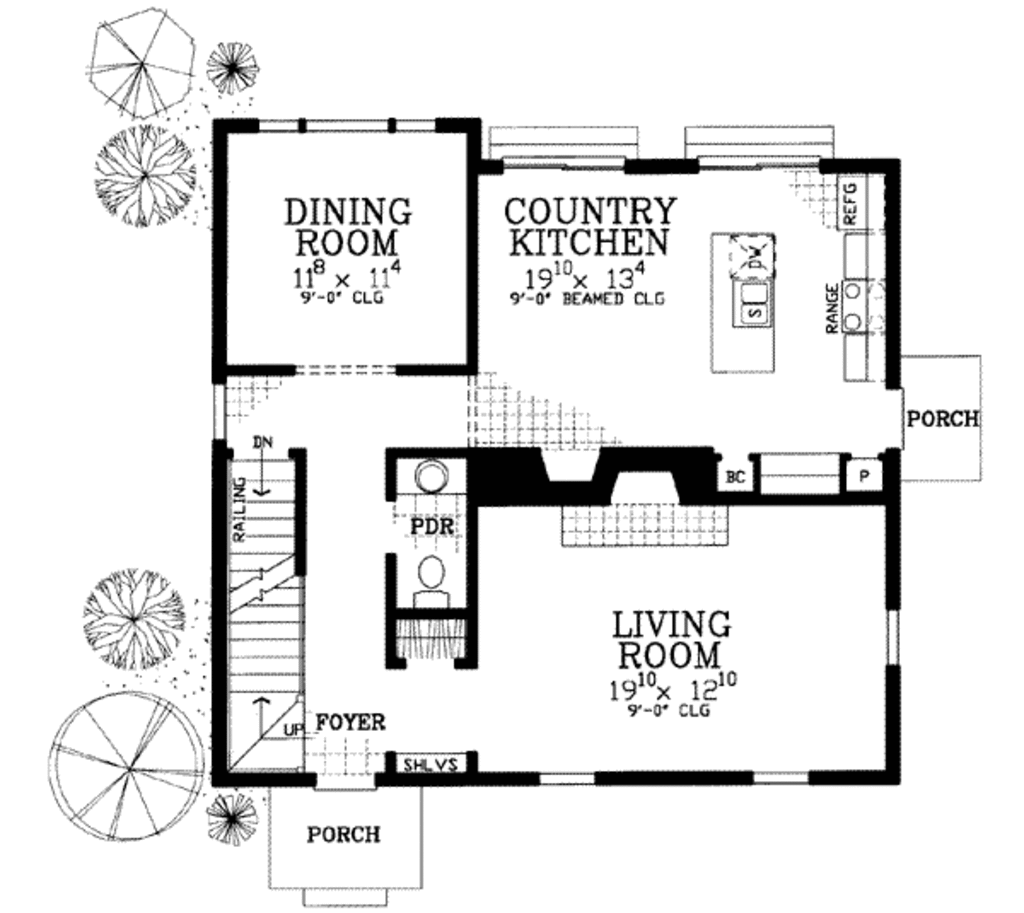kitchen_bar: (703, 227, 779, 376)
large_sink: (405, 551, 464, 610)
small_sink: (391, 457, 467, 493)
stairs: (209, 432, 319, 785)
windows: (484, 123, 647, 178), (679, 122, 841, 170), (250, 109, 437, 137), (880, 599, 905, 669), (744, 767, 815, 789), (534, 766, 601, 786)
